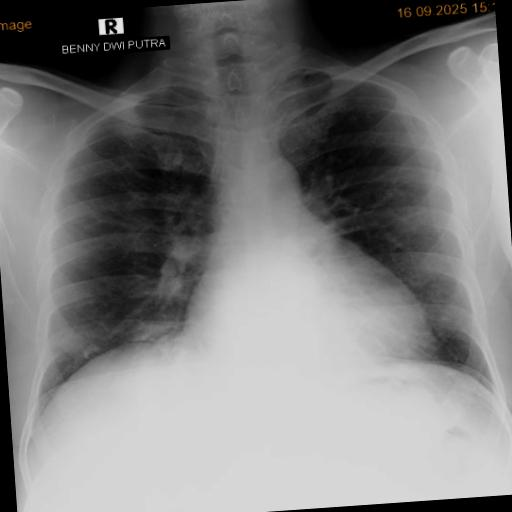kardiomegali: (2, 28, 506, 456)
